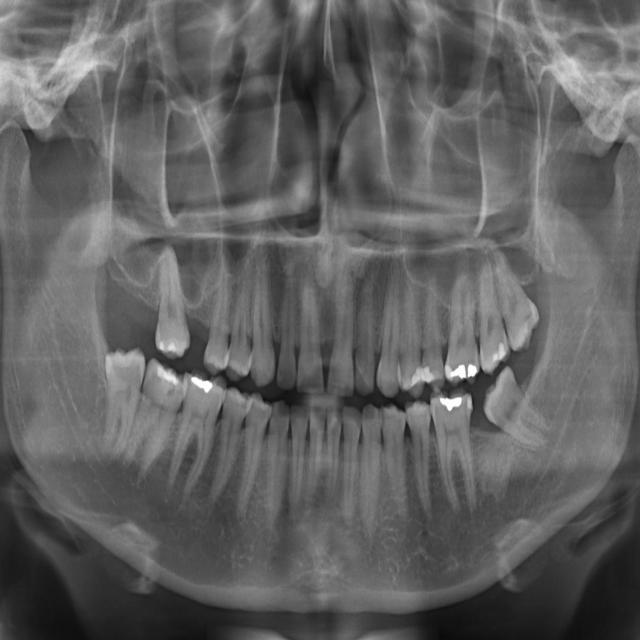AGS Medikal Implant: (351, 252, 381, 400)
AMerOss Implant: (375, 250, 402, 400)
Amalgam filling: (400, 277, 428, 398)
Anthogyr Implant: (416, 268, 446, 390)
Bicon Implant: (441, 268, 480, 388)
BioHorizons Implant: (474, 246, 513, 379)
BioLife Implant: (482, 230, 549, 356)
Biomet 3i Implant: (466, 362, 562, 469)
Camlog Implant: (429, 386, 480, 517)
Caries: (152, 239, 198, 363)
Composite filling: (402, 396, 449, 532)
Cowellmedi Implant: (380, 400, 414, 527)
Crown: (359, 401, 382, 545)
DENTSPLY Implant: (342, 404, 363, 529)
Dentatus Implant: (326, 407, 342, 503)
Dentis Implant: (305, 405, 327, 507)
Dentium Implant: (289, 401, 309, 521)
Euroteknika Implant: (261, 397, 291, 540)
Filling: (232, 390, 272, 528)
Frontier Implant: (206, 384, 249, 512)
Implant: (115, 354, 192, 497)
Implant Direct: (160, 365, 230, 514)
Keystone Dental Implant: (100, 342, 146, 463)
MIS Implant: (200, 245, 244, 376)
Mandible: (222, 266, 265, 384)
Maxilla: (250, 217, 278, 389)
Megagen Implant: (275, 249, 306, 392)
Neodent Implant: (290, 252, 325, 398)
Neoss Implant: (326, 252, 354, 398)
